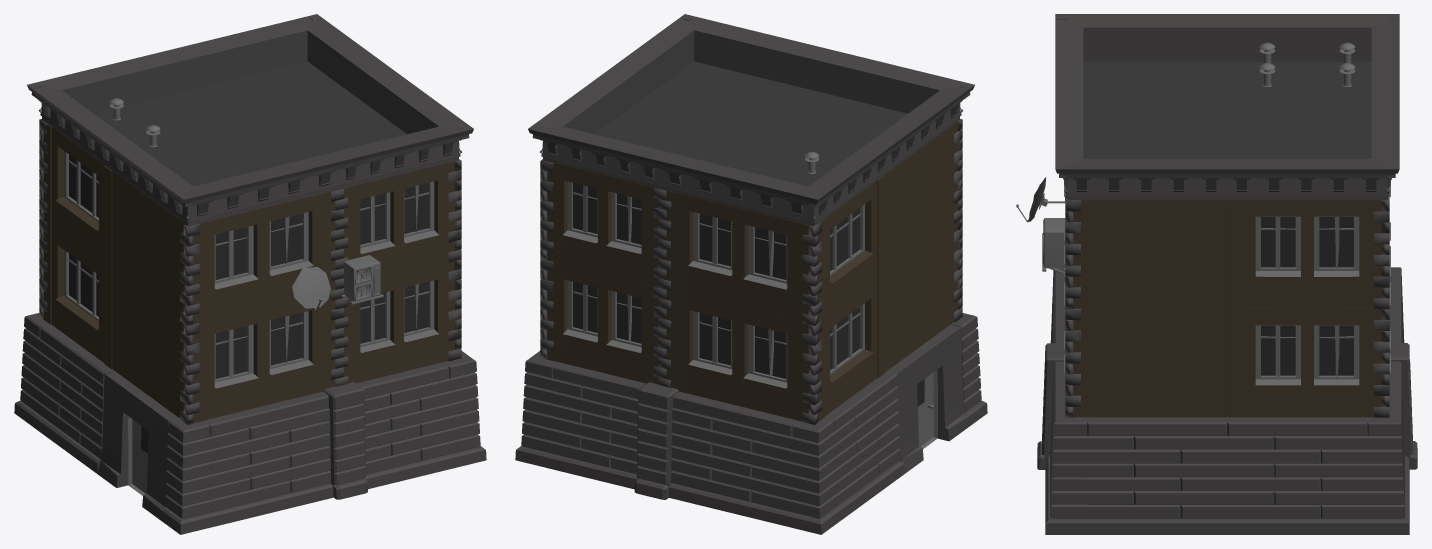
3 renders of one model, left to right at view 1: azimuth 30°, elevation 25°; view 2: azimuth 150°, elevation 25°; view 3: azimuth 270°, elevation 25°, orthographic. The views are drawn at different scales.
Parts seen in each view (by area): view 1: Plane.016, middle_floor_wall_02.552, ground_floor_wall_02.127, middle_floor_wall_02.553, middle_floor_wall_02.546, middle_floor_wall_02.547, ground_floor_wall_02.124, ground_floor_wall_02.121, ground_floor_wall_01.039, middle_floor_wall_03.181, middle_floor_wall_03.180, middle_floor_wall_01.257 (+23 smaller); view 2: Plane.016, middle_floor_wall_02.551, middle_floor_wall_02.550, ground_floor_wall_02.126, middle_floor_wall_02.549, middle_floor_wall_02.548, ground_floor_wall_02.125, ground_floor_wall_02.121, ground_floor_wall_01.039, middle_floor_wall_01.257, middle_floor_wall_01.256, middle_floor_wall_03.181 (+21 smaller); view 3: Plane.016, ground_floor_wall_02.122, ground_floor_wall_02.123, middle_floor_wall_01.258, middle_floor_wall_02.544, middle_floor_wall_02.545, middle_floor_wall_01.259, trimm.207, trimm.206, trimm.208, trimm.209, ground_floor_pillar_CV_0.5m.065 (+16 smaller).
Part boxes in pixels (bbox=[...]): Plane.016: bbox=[94, 61, 406, 186]; middle_floor_wall_02.552: bbox=[193, 291, 335, 423]; ground_floor_wall_02.127: bbox=[204, 391, 333, 526]; middle_floor_wall_02.553: bbox=[188, 189, 338, 324]; middle_floor_wall_02.546: bbox=[343, 261, 454, 383]; middle_floor_wall_02.547: bbox=[339, 160, 458, 278]; ground_floor_wall_02.124: bbox=[357, 362, 453, 489]; ground_floor_wall_02.121: bbox=[33, 324, 114, 473]; ground_floor_wall_01.039: bbox=[97, 371, 178, 520]; middle_floor_wall_03.181: bbox=[43, 120, 114, 271]; middle_floor_wall_03.180: bbox=[43, 223, 114, 370]; middle_floor_wall_01.257: bbox=[115, 173, 187, 319]; Plane.016: bbox=[595, 61, 907, 186]; middle_floor_wall_02.551: bbox=[663, 189, 813, 322]; middle_floor_wall_02.550: bbox=[666, 290, 808, 421]; ground_floor_wall_02.126: bbox=[669, 391, 797, 526]; middle_floor_wall_02.549: bbox=[543, 160, 662, 287]; middle_floor_wall_02.548: bbox=[547, 262, 658, 384]; ground_floor_wall_02.125: bbox=[548, 362, 645, 489]; ground_floor_wall_02.121: bbox=[824, 371, 904, 520]; ground_floor_wall_01.039: bbox=[887, 324, 968, 473]; middle_floor_wall_01.257: bbox=[887, 121, 957, 271]; middle_floor_wall_01.256: bbox=[887, 222, 957, 370]; middle_floor_wall_03.181: bbox=[814, 173, 886, 322]; Plane.016: bbox=[1083, 61, 1371, 158]; ground_floor_wall_02.122: bbox=[1087, 417, 1227, 534]; ground_floor_wall_02.123: bbox=[1227, 417, 1367, 534]; middle_floor_wall_01.258: bbox=[1073, 308, 1227, 417]; middle_floor_wall_02.544: bbox=[1227, 308, 1381, 417]; middle_floor_wall_02.545: bbox=[1227, 200, 1381, 308]; middle_floor_wall_01.259: bbox=[1067, 200, 1227, 308]; trimm.207: bbox=[1067, 14, 1227, 61]; trimm.206: bbox=[1227, 14, 1387, 61]; trimm.208: bbox=[1067, 159, 1227, 200]; trimm.209: bbox=[1227, 159, 1387, 200]; ground_floor_pillar_CV_0.5m.065: bbox=[1045, 408, 1087, 534].
Bounding box in the file's own units: 980 × 1010 × 1016.
